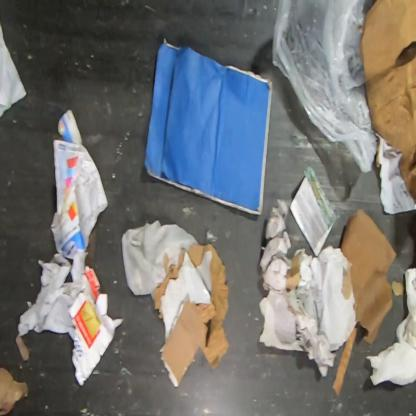cardboard: (141, 34, 274, 219), (285, 207, 397, 398), (361, 0, 415, 214), (152, 242, 229, 387), (391, 278, 405, 298)
soft_plastic: (272, 0, 378, 174)
